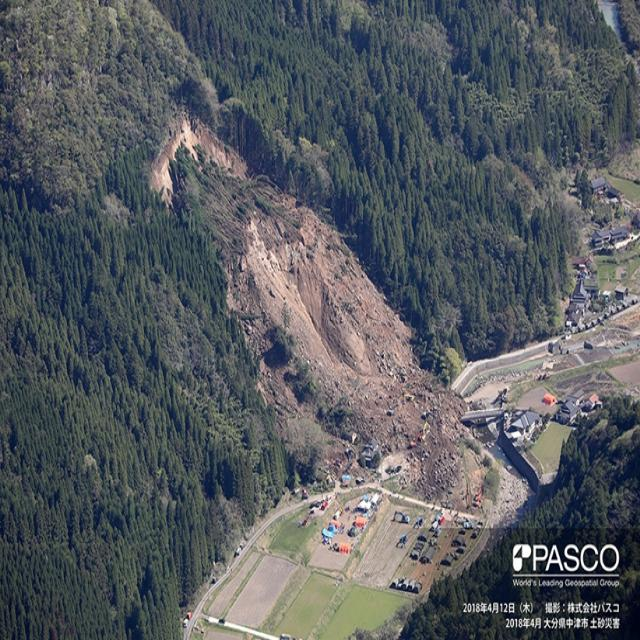Debris-flow: (222, 186, 430, 435), (152, 118, 246, 202)
